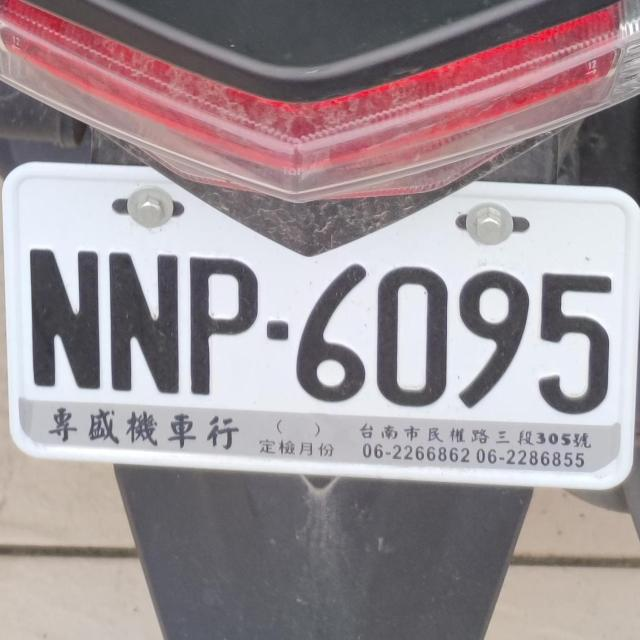W: (1, 159, 640, 495)
